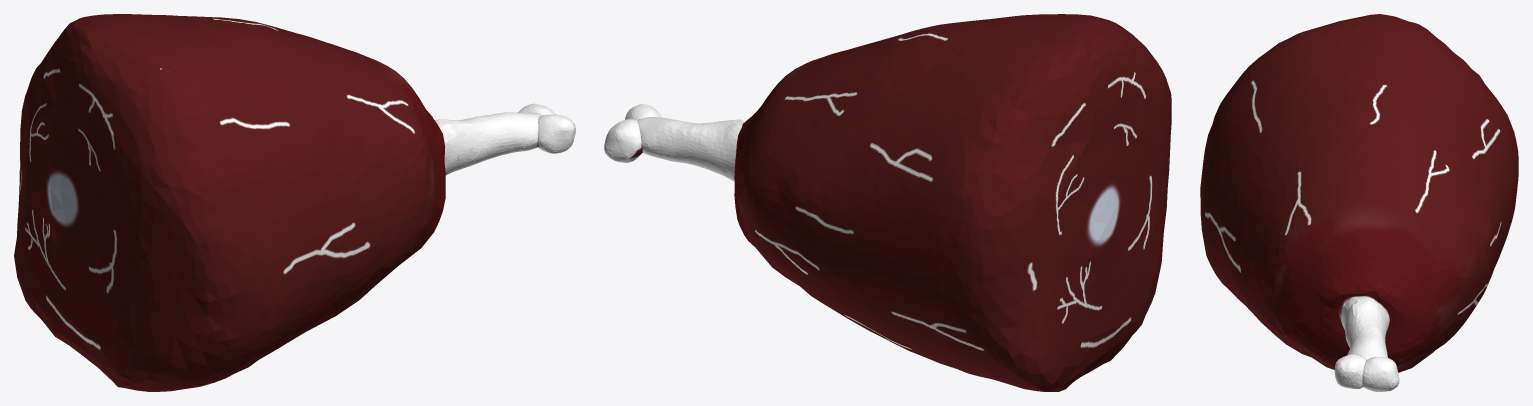
File: raw_meat.fbx
3 renders of one model, left to right at view 1: azimuth 30°, elevation 25°; view 2: azimuth 150°, elevation 25°; view 3: azimuth 270°, elevation 25°, orthographic. The views are drawn at different scales.
Visible parts, largest first — view 1: Icosphere; view 2: Icosphere; view 3: Icosphere.
Boxes of the visible parts, <box> form: Icosphere: <box>14,14,575,391</box>; Icosphere: <box>604,14,1171,391</box>; Icosphere: <box>1200,14,1518,391</box>.
Size of the model in its own units: 198 by 131 by 129.
1 material, 1 textured.
